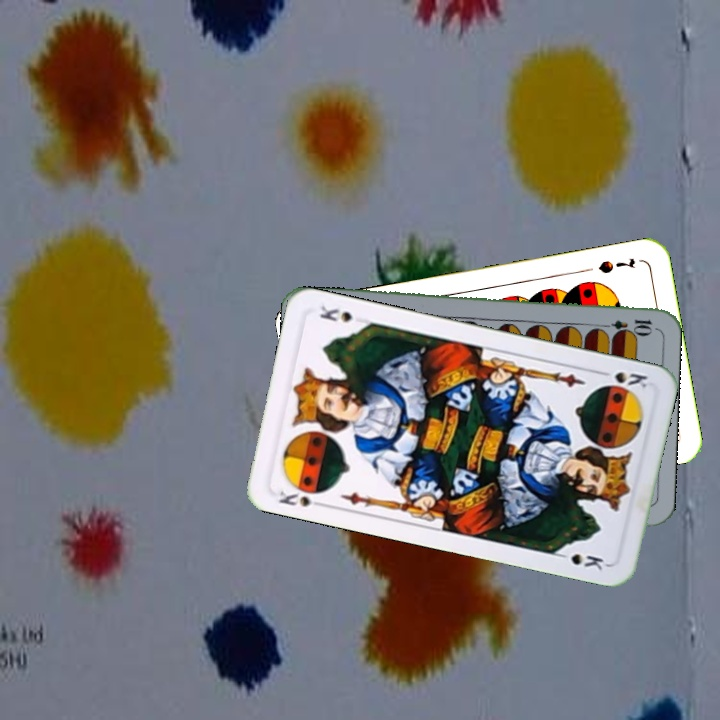E10: (596, 315, 655, 334)
S7: (594, 254, 638, 276)
SK: (594, 366, 650, 391), (274, 487, 328, 510)
